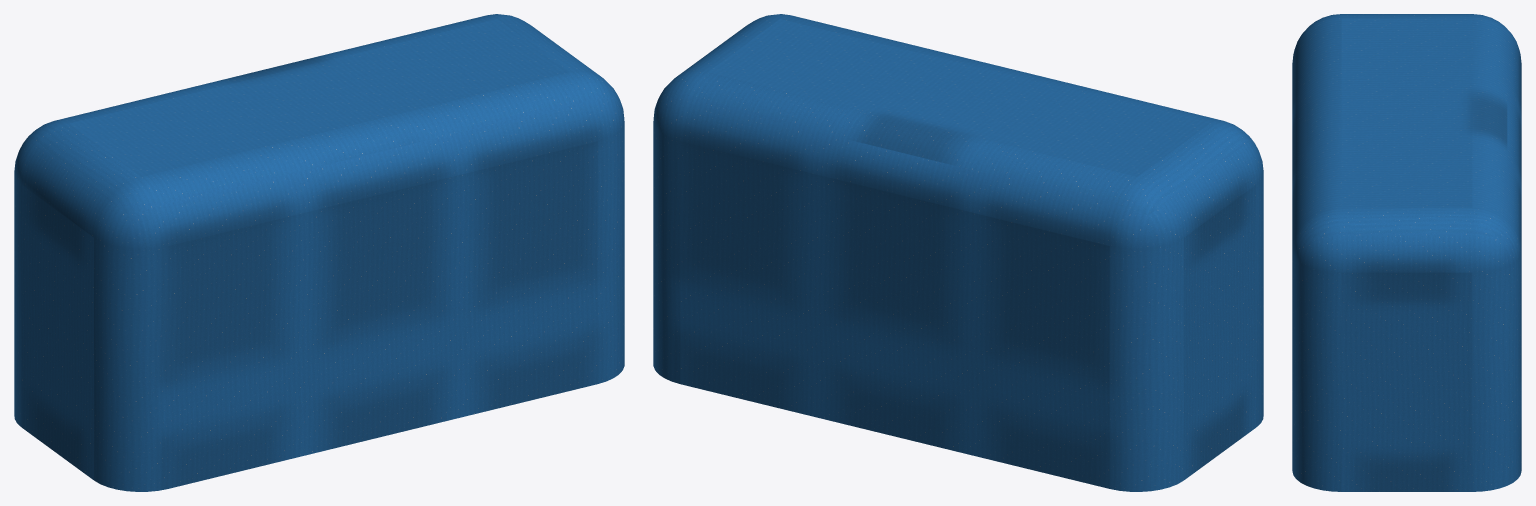
The model's file is 5-upright-tin-band-3-1.fbx.
3 views of the same model, side by side, from view 1: azimuth 30°, elevation 25°; view 2: azimuth 150°, elevation 25°; view 3: azimuth 270°, elevation 25° (orthographic). The views are drawn at different scales.
Visible parts, largest first — view 1: upright-tin-band-3-1; view 2: upright-tin-band-3-1; view 3: upright-tin-band-3-1.
Boxes of the visible parts, <box> form: upright-tin-band-3-1: <box>14,14,624,491</box>; upright-tin-band-3-1: <box>653,14,1263,491</box>; upright-tin-band-3-1: <box>1292,14,1521,491</box>.
Bounding box in the file's own units: 10000 × 5333 × 4200.
Materials: 1 (1 with a texture image).
